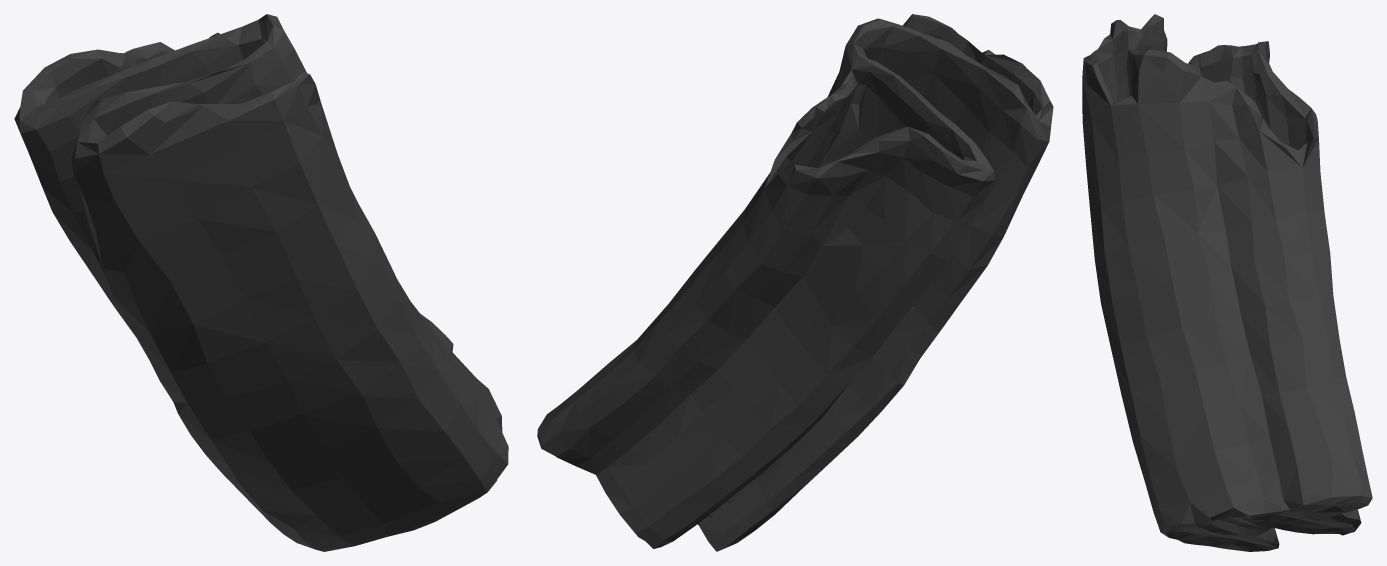
The model's file is Upper_M3_1.glb.
3 renders of one model, left to right at view 1: azimuth 30°, elevation 25°; view 2: azimuth 150°, elevation 25°; view 3: azimuth 270°, elevation 25°, orthographic. The views are drawn at different scales.
Visible parts, largest first — view 1: Upper_M3_1; view 2: Upper_M3_1; view 3: Upper_M3_1.
Boxes of the visible parts, left/top/right/bottom form: Upper_M3_1: left=14, top=14, right=508, bottom=551; Upper_M3_1: left=537, top=14, right=1053, bottom=551; Upper_M3_1: left=1082, top=14, right=1372, bottom=551.
Bounding box in the file's own units: 0.6098 × 0.729 × 0.4177.
Materials: 1 (1 with a texture image).
